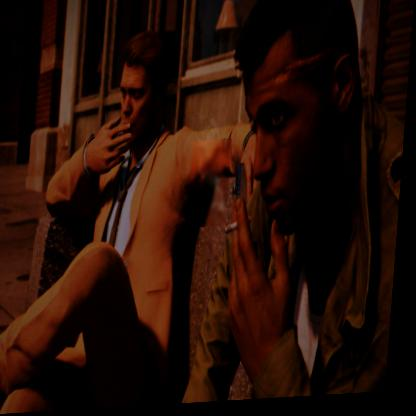smoke: (190, 142, 234, 230)
